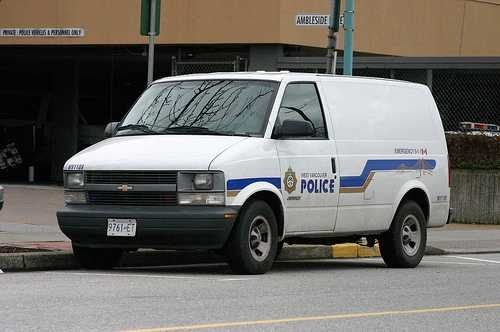Police Van: (75, 59, 497, 264)
